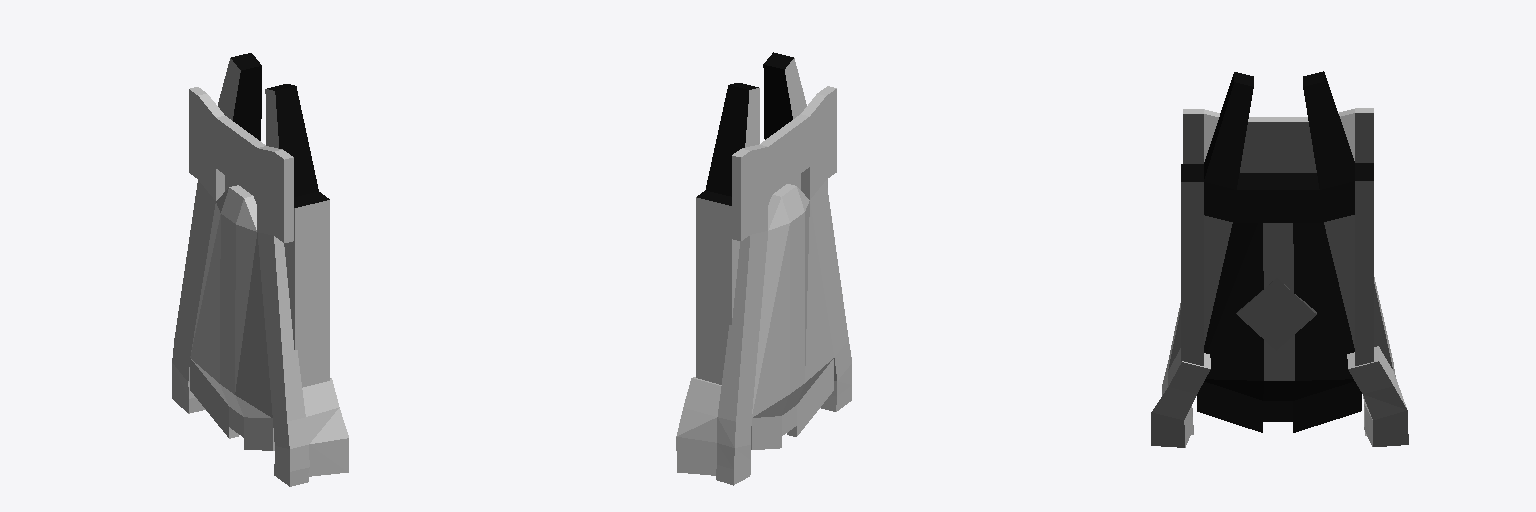
The picture shows the model from 3 angles: view 1: azimuth 30°, elevation 25°; view 2: azimuth 150°, elevation 25°; view 3: azimuth 270°, elevation 25°; orthographic projection.
Visible parts, largest first — view 1: Cube.001; view 2: Cube.001; view 3: Cube.001, Cube.002.
Part boxes in pixels (x1,y1,x2,y2): Cube.001: (172,53,348,486); Cube.001: (676,52,851,485); Cube.001: (1151,71,1408,447); Cube.002: (1236,278,1316,350).
Size of the model in its own units: 1.61 by 9.72 by 6.21.
3 materials, 2 textured.